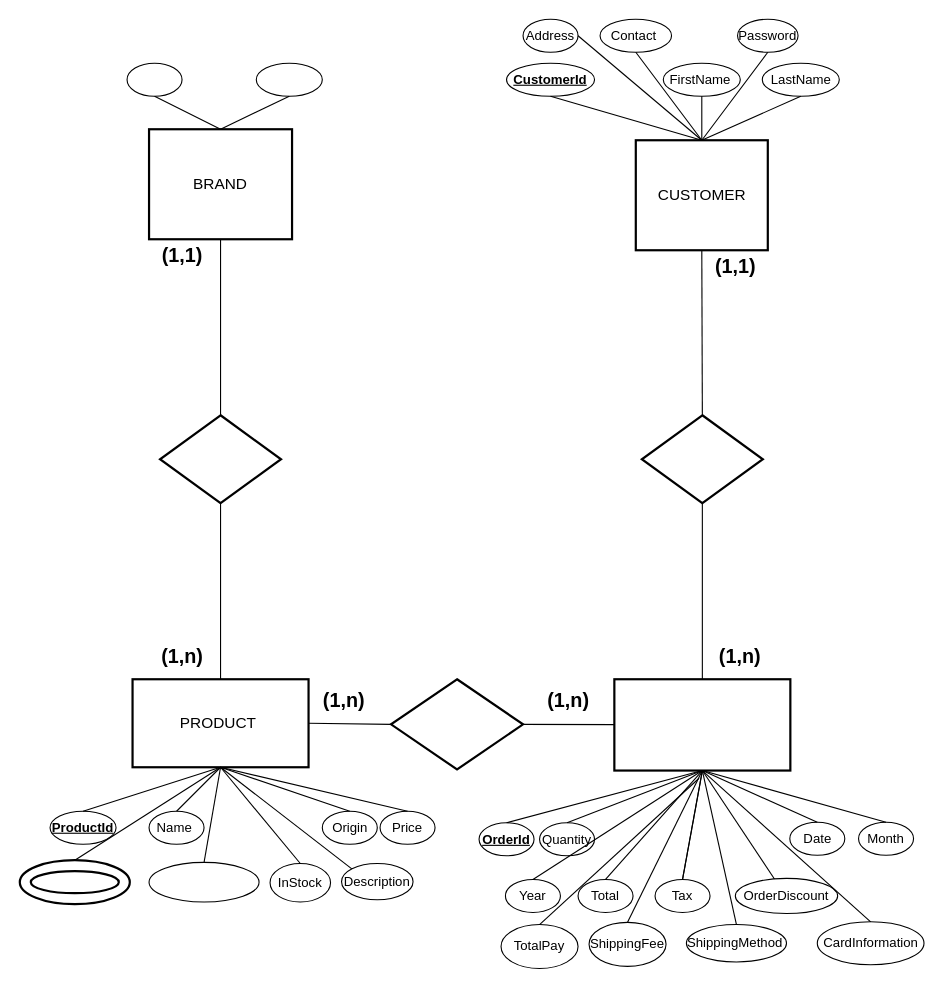
The diagram is 944 pixels wide and 988 high, and some of its shapes have lost their labels. The shapes that lost their labels are listed below. From the top down, each one's centre as x and y in pixels, then its label:
pixel 154 79: BrandId
pixel 288 79: Location
pixel 220 459: DISTRIBUTES
pixel 701 459: BUYS
pixel 456 724: COMPRISES
pixel 702 724: ORDER
pixel 74 882: Category
pixel 203 881: ProductDiscount
